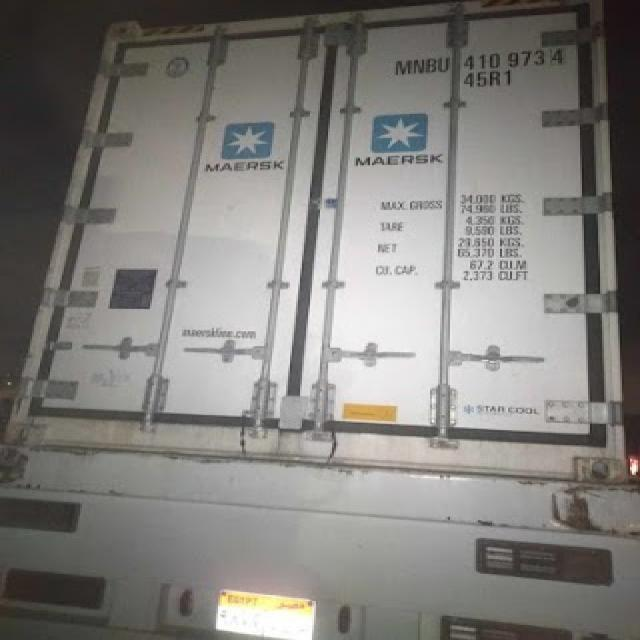ISO: (464, 72, 515, 90)
container_number: (394, 51, 564, 70)
